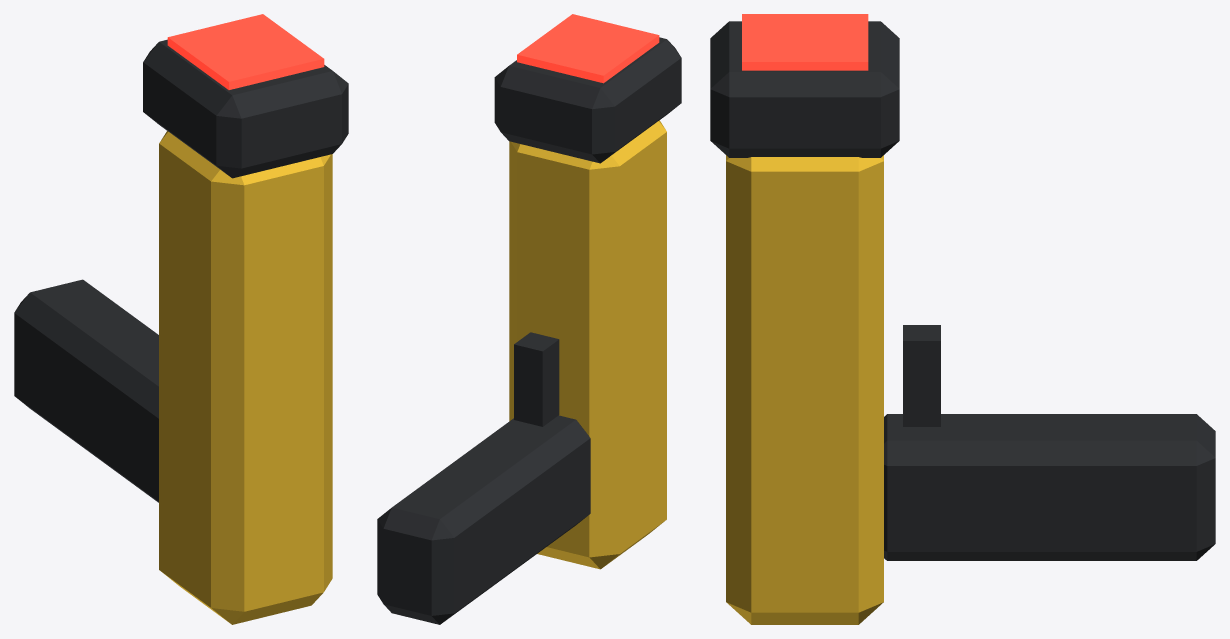
The model's file is prop_scanner.glb.
3 renders of one model, left to right at view 1: azimuth 30°, elevation 25°; view 2: azimuth 150°, elevation 25°; view 3: azimuth 270°, elevation 25°, orthographic. The views are drawn at different scales.
Parts seen in each view (by area): view 1: PropScanner; view 2: PropScanner; view 3: PropScanner.
Boxes of the visible parts, left/top/right/bottom form: PropScanner: left=14, top=14, right=348, bottom=624; PropScanner: left=377, top=14, right=681, bottom=624; PropScanner: left=710, top=14, right=1215, bottom=624.
Bounding box in the file's own units: 0.05 × 0.198 × 0.16.
